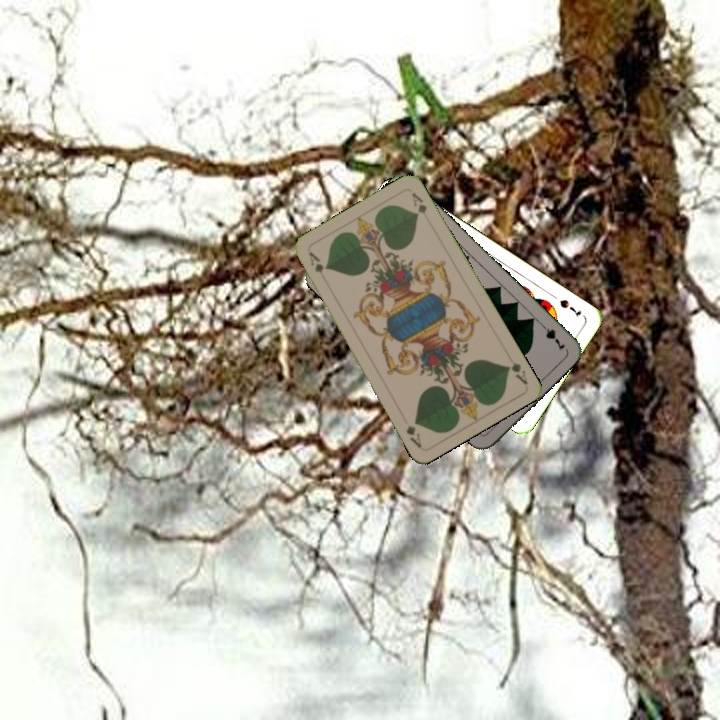G7: (535, 318, 568, 353)
GA: (305, 247, 330, 285), (502, 358, 530, 387)
S7: (556, 295, 584, 320)
